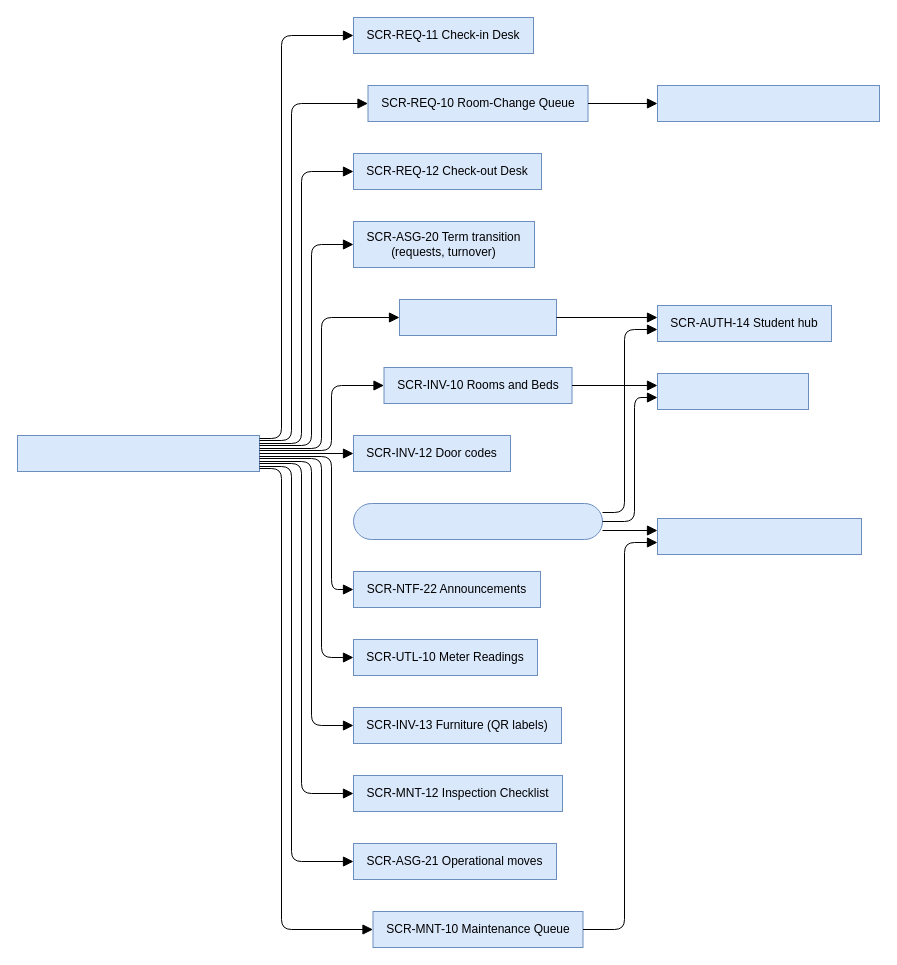
Some shapes in this 897 by 965 pixel diagram are drawn without their labels. Each missing label, with the centre of its shape:
SCR-AUTH-13 Students: the point at 477,317
SCR-HOME-02 Staff Dashboard (Today): the point at 138,453
SCR-INV-14 Room hub: the point at 732,391
SCR-MNT-11 Maintenance Detail: the point at 759,536
SCR-REQ-13 Room Swap Requests: the point at 768,103
Search (header): students, Rooms, codes: the point at 477,521
